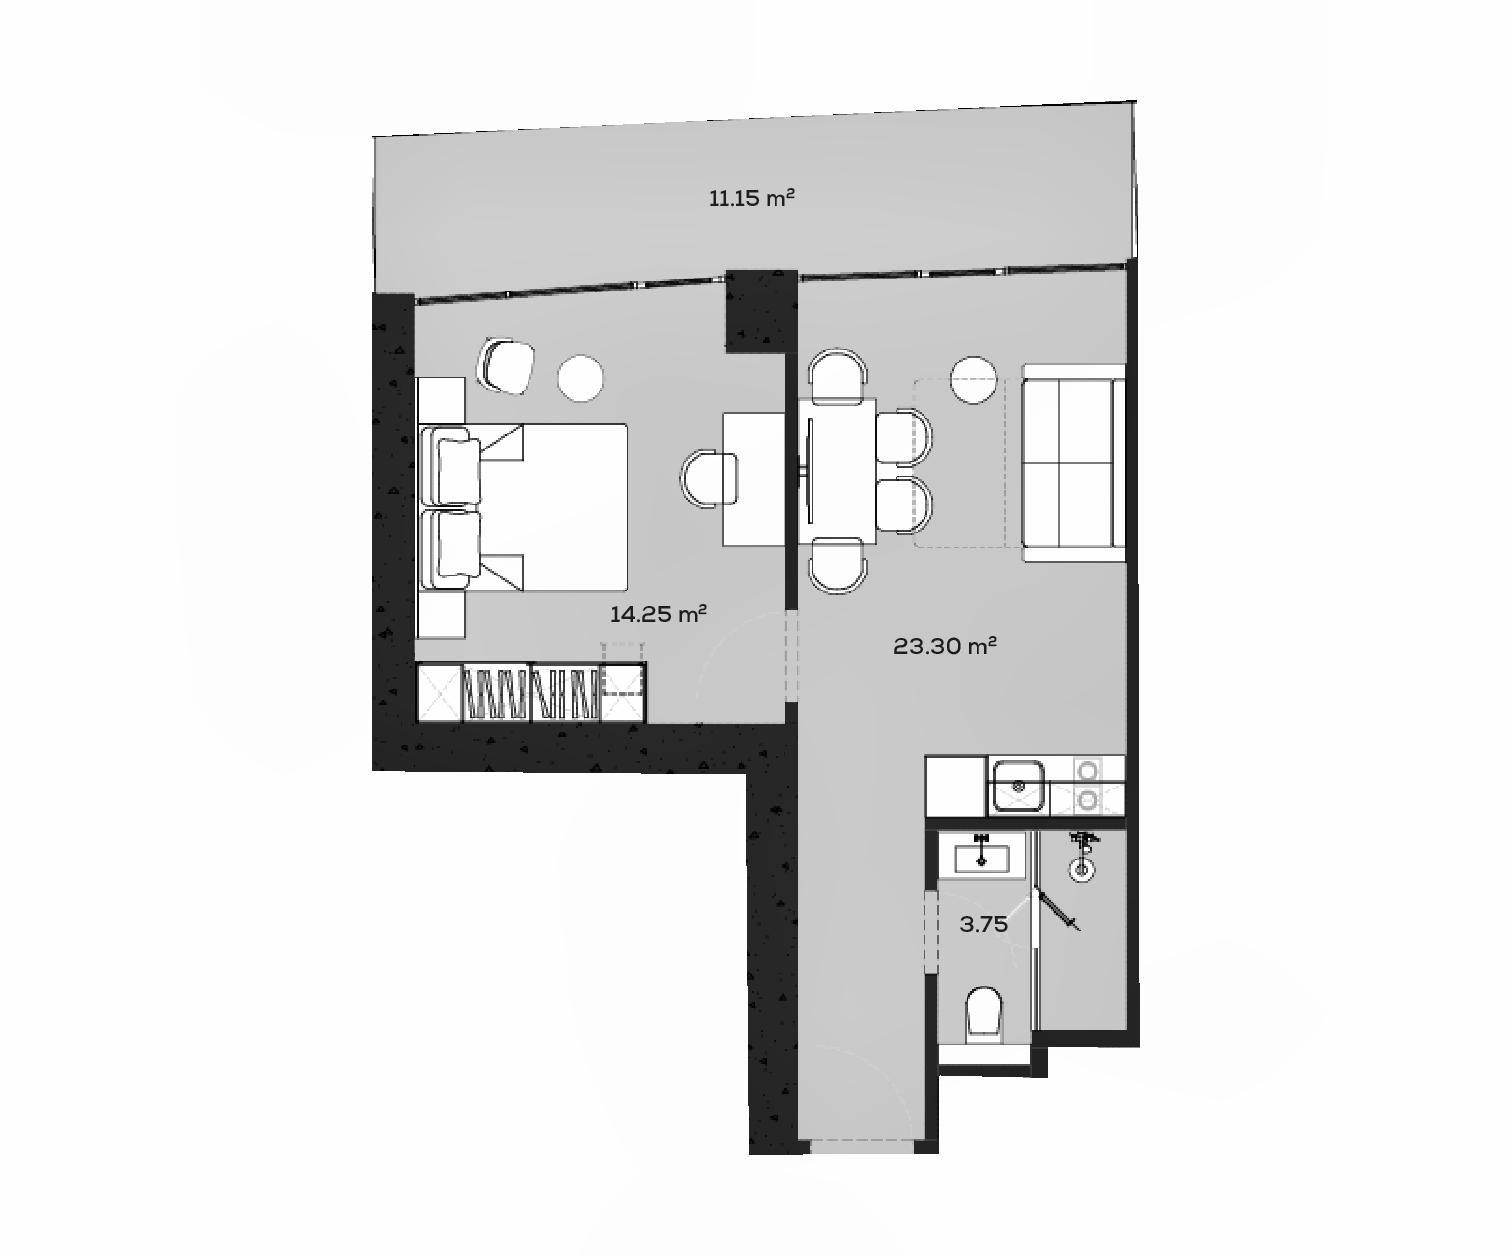door: (1023, 878, 1078, 954), (777, 601, 807, 714), (916, 882, 944, 981)
